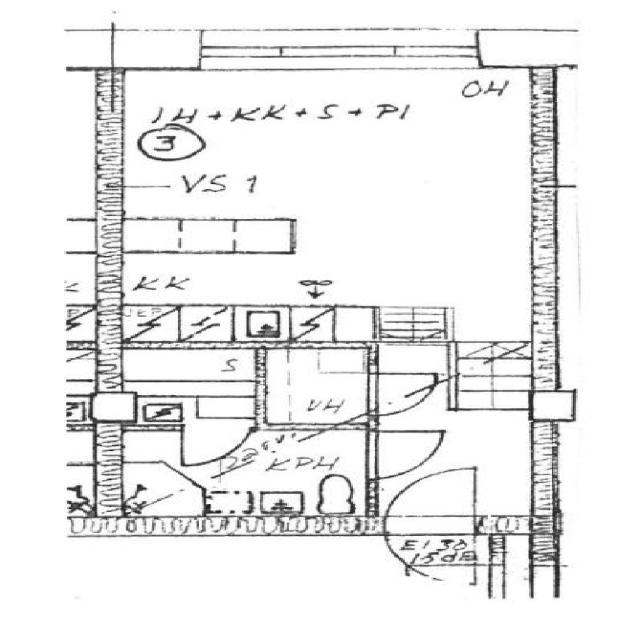door: (378, 456, 489, 541), (361, 427, 449, 483), (361, 370, 445, 421)
zone: (108, 86, 532, 332), (107, 64, 557, 192), (82, 423, 375, 534), (93, 347, 259, 427), (255, 347, 374, 427)
